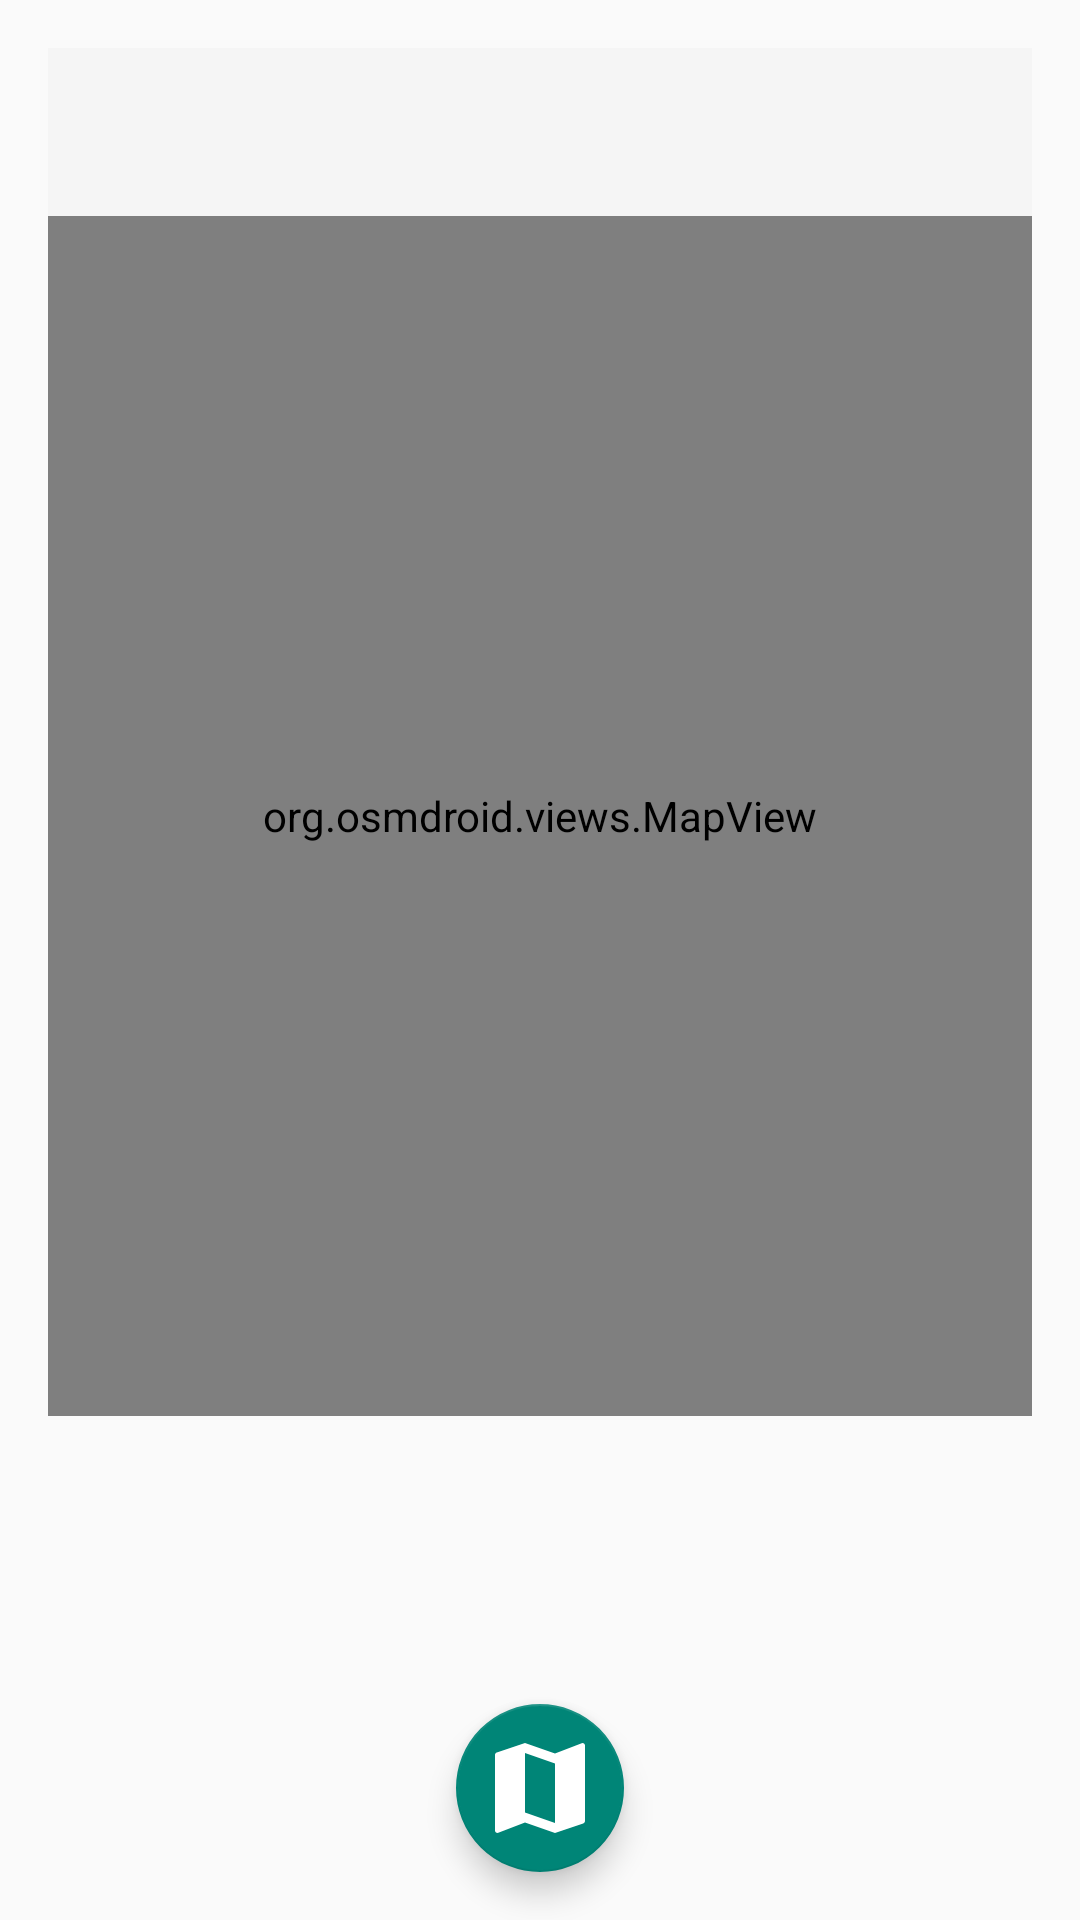

Icon bounding boxes for this 1080px×1920px phone screenshot, format [left=x1, top=y1, right=x2, bottom=y2]:
map: [left=456, top=1704, right=624, bottom=1872]
